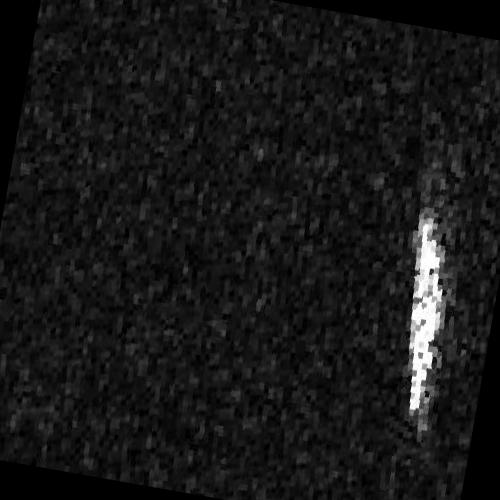ship: (406, 215, 443, 416)
